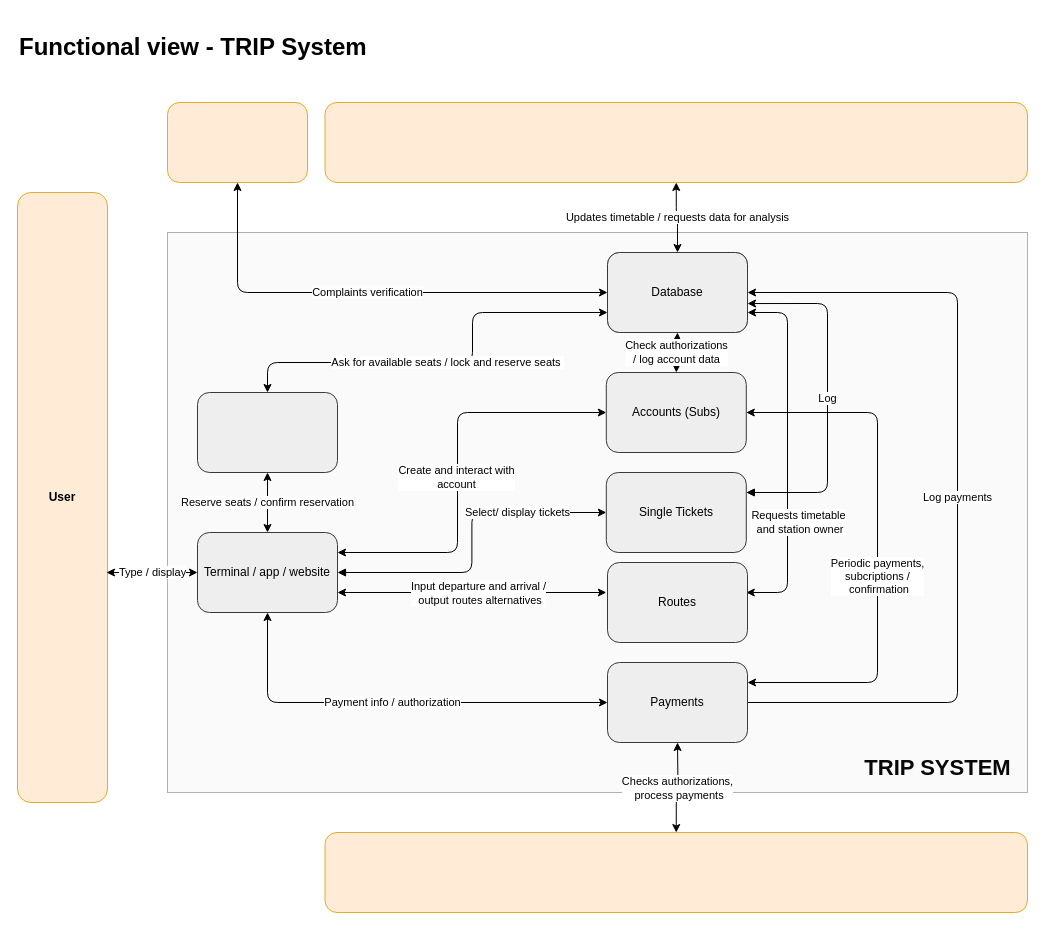
Some shapes in this 1045 by 930 pixel diagram are drawn without their labels. The box of each missing label's shape, as (x1, y1, x2, y2) in pixels:
Bank: (324, 832, 1028, 912)
Bookings: (196, 392, 338, 472)
Customer service: (166, 102, 308, 182)
Tycoon: (324, 102, 1028, 182)
